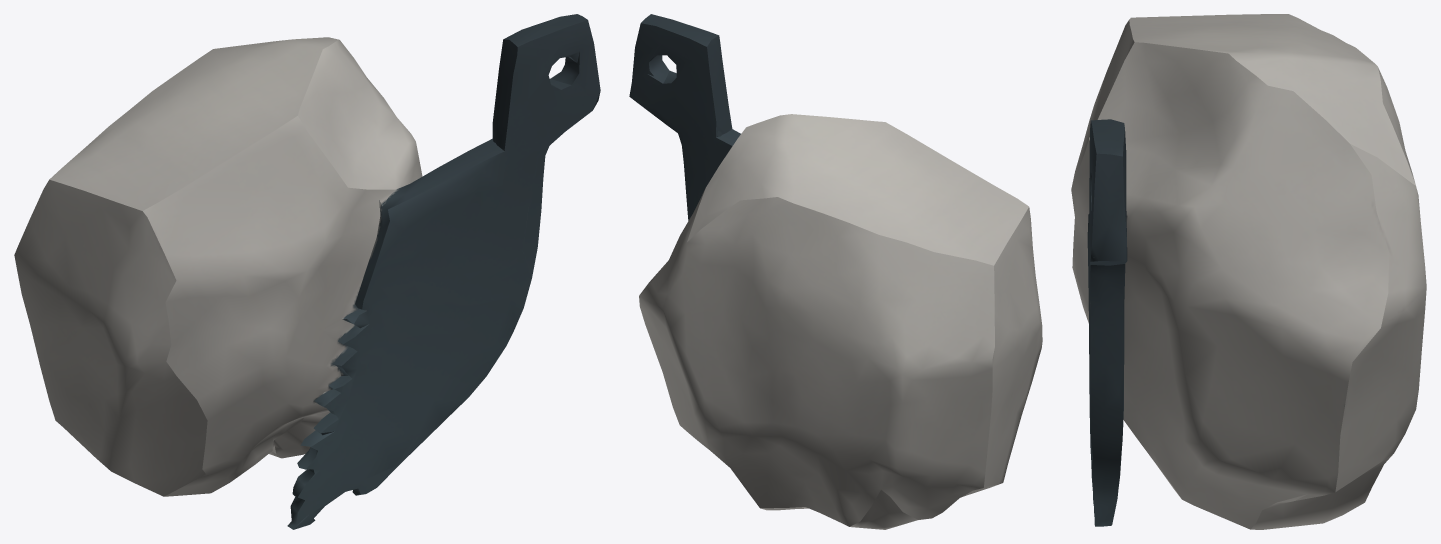
Rendered from PROP_04.glb.
The picture shows the model from 3 angles, left to right: view 1: azimuth 30°, elevation 25°; view 2: azimuth 150°, elevation 25°; view 3: azimuth 270°, elevation 25°; orthographic projection. The views are drawn at different scales.
Visible parts, largest first — view 1: world; view 2: world; view 3: world.
Part boxes in pixels (left/top/right/bottom): world: left=14, top=14, right=600, bottom=529; world: left=629, top=14, right=1042, bottom=529; world: left=1071, top=14, right=1426, bottom=529.
Bounding box in the file's own units: 1 × 0.86 × 0.5307.
Materials: 1 (1 with a texture image).
